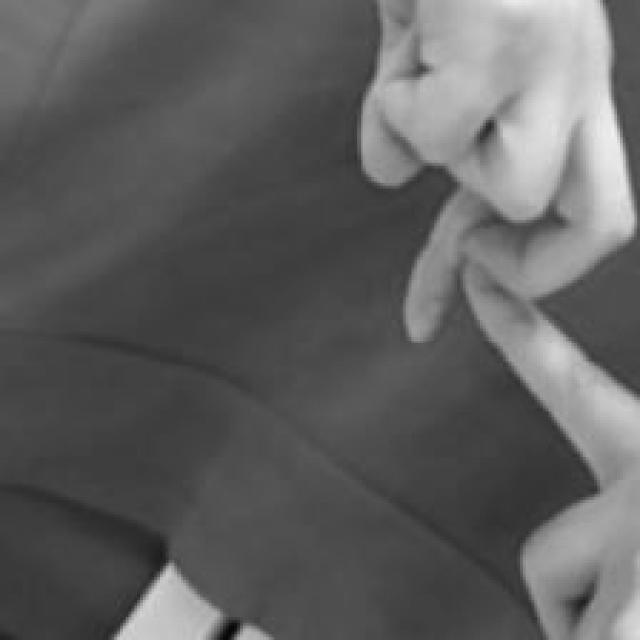R: (348, 2, 640, 638)
